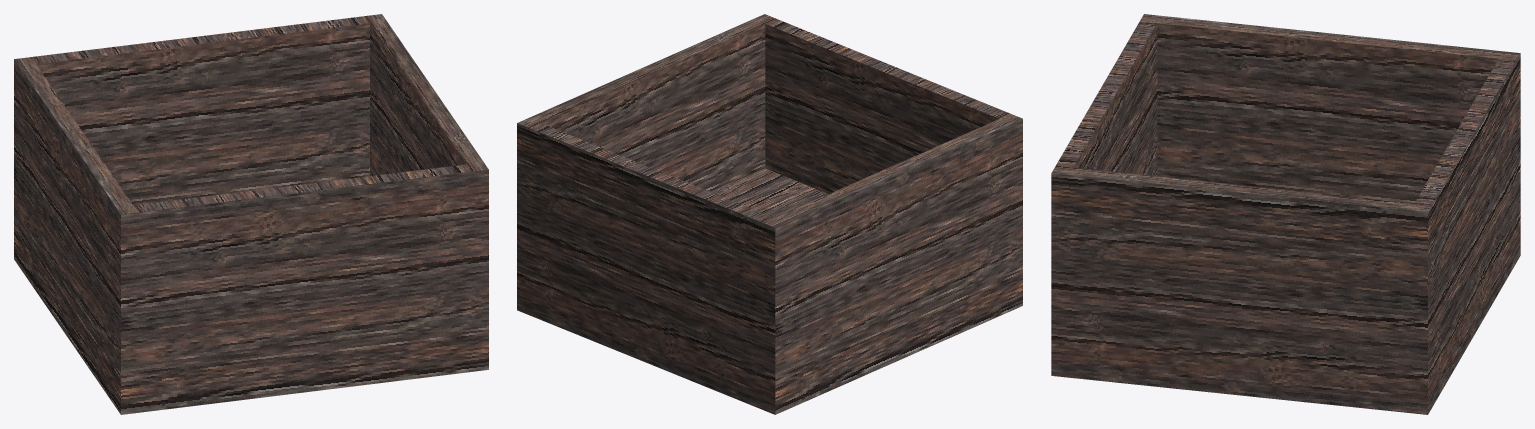
The model's file is crate-2.glb.
3 renders of one model, left to right at view 1: azimuth 30°, elevation 25°; view 2: azimuth 150°, elevation 25°; view 3: azimuth 270°, elevation 25°, orthographic. The views are drawn at different scales.
Visible parts, largest first — view 1: Crate_2; view 2: Crate_2; view 3: Crate_2.
Boxes of the visible parts, x1,y1,x2,y2 form: Crate_2: (14,14,488,414); Crate_2: (517,14,1022,414); Crate_2: (1051,14,1520,414).
Bounding box in the file's own units: 0.6685 × 0.3189 × 0.6685.
1 material, 1 textured.
